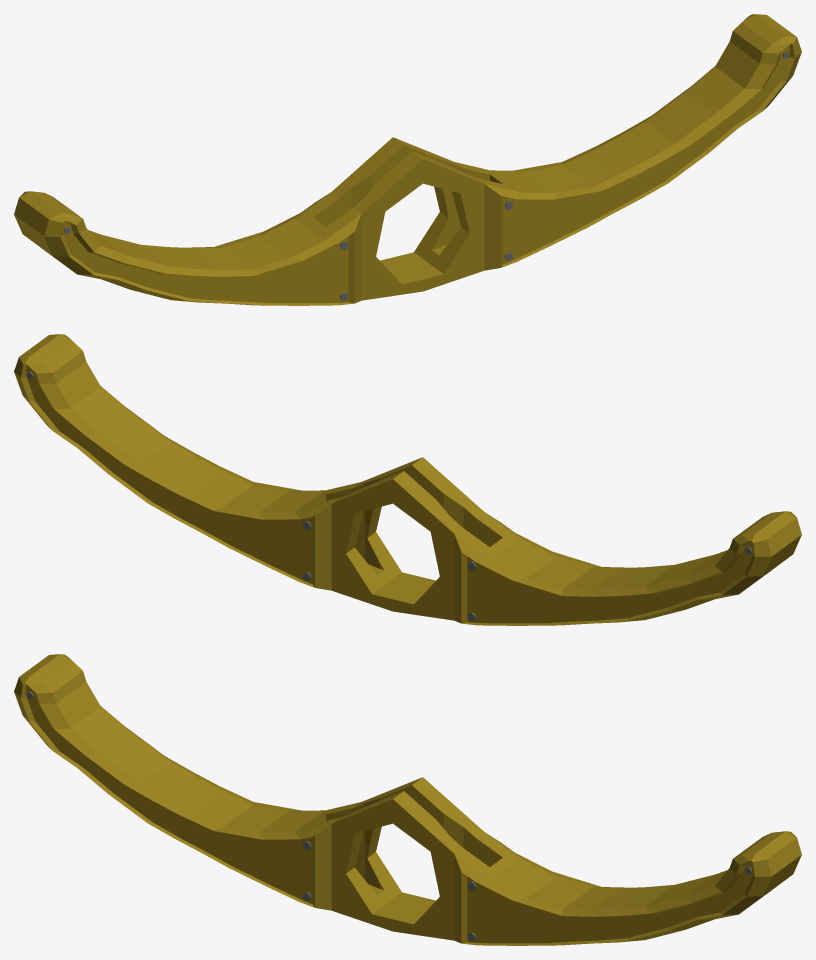
File: Guarnição.fbx
3 renders of one model, top to bottom at view 1: azimuth 30°, elevation 25°; view 2: azimuth 150°, elevation 25°; view 3: azimuth 330°, elevation 25°, orthographic.
Visible parts, largest first — view 1: guard; view 2: guard; view 3: guard.
Part boxes in pixels (box(x1,y1,x2,y2)): guard: box(14, 14, 801, 305); guard: box(14, 334, 801, 625); guard: box(14, 654, 801, 945).
Size of the model in its own units: 576 by 121 by 52.4.
